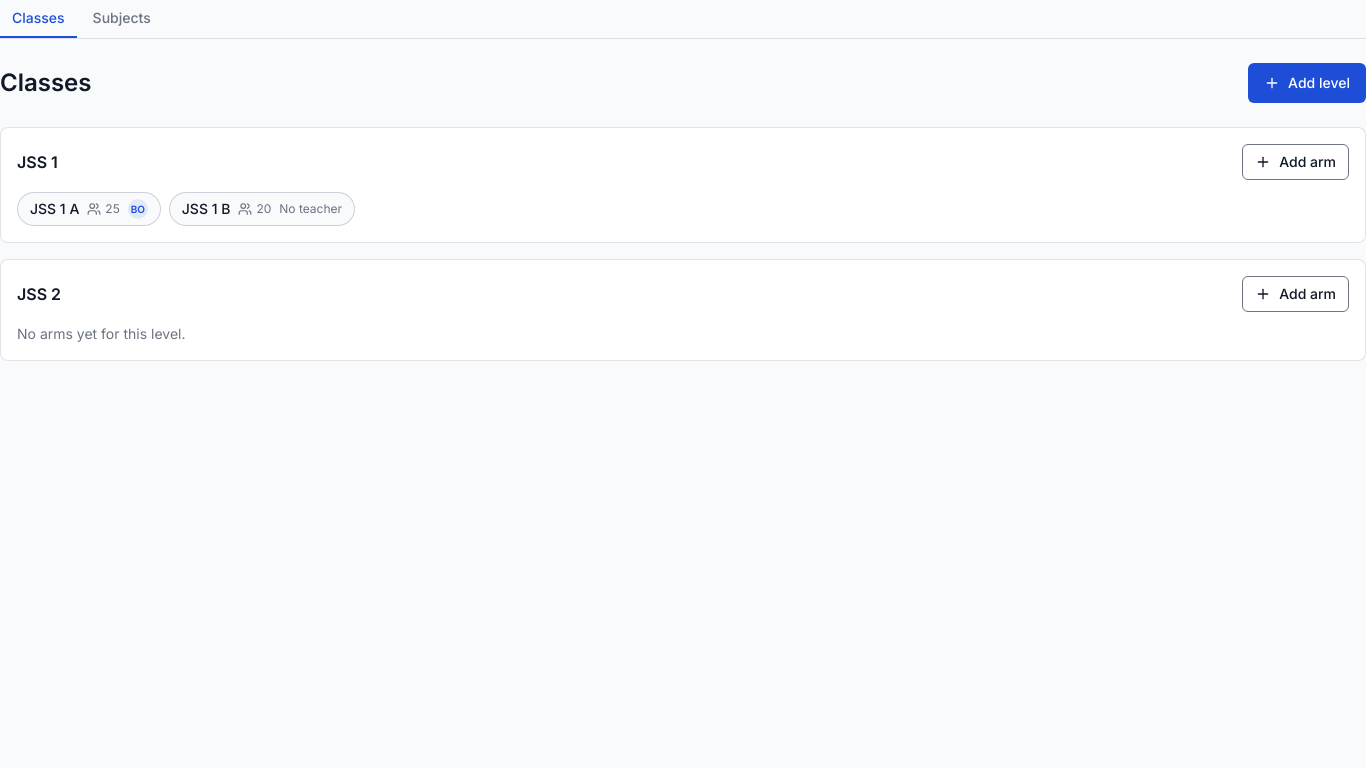
Scenario: ClassesPage — Subjects tab › renders subjects with level chips, and surfaces the assigned-delete 409 as a friendly sentence
Expected: the heading "JSS 1" is shown, [17, 150, 58, 174]
Step 1. Click the tab "Subjects" → (122,19), box [81, 0, 163, 38]
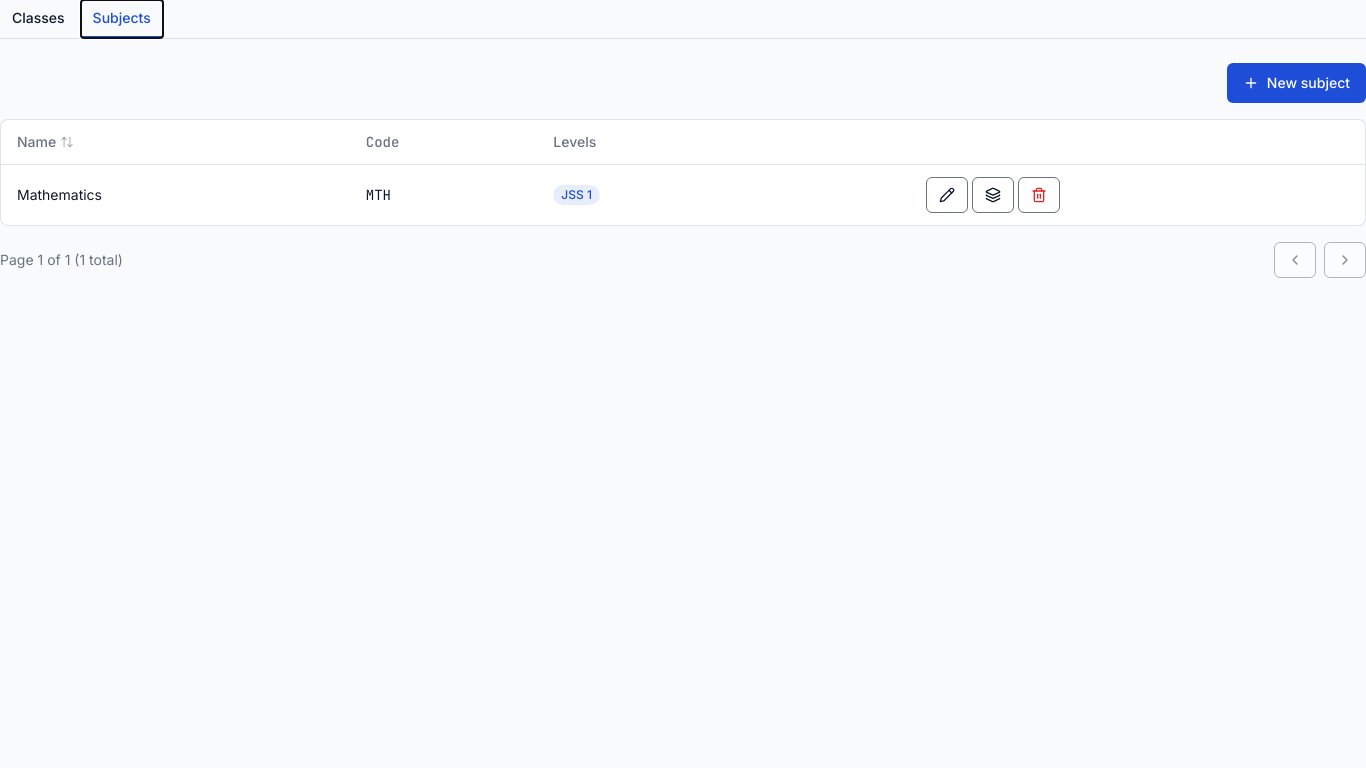
Expected: the text "JSS 1" is shown, [553, 185, 600, 205]
Expected: the text "Mathematics" is shown, [1, 164, 350, 225]
Expected: the text "MTH" is shown, [350, 164, 545, 225]
Step 2. Click the button named "Delete Mathematics" → (1039,195), box [1018, 177, 1060, 213]
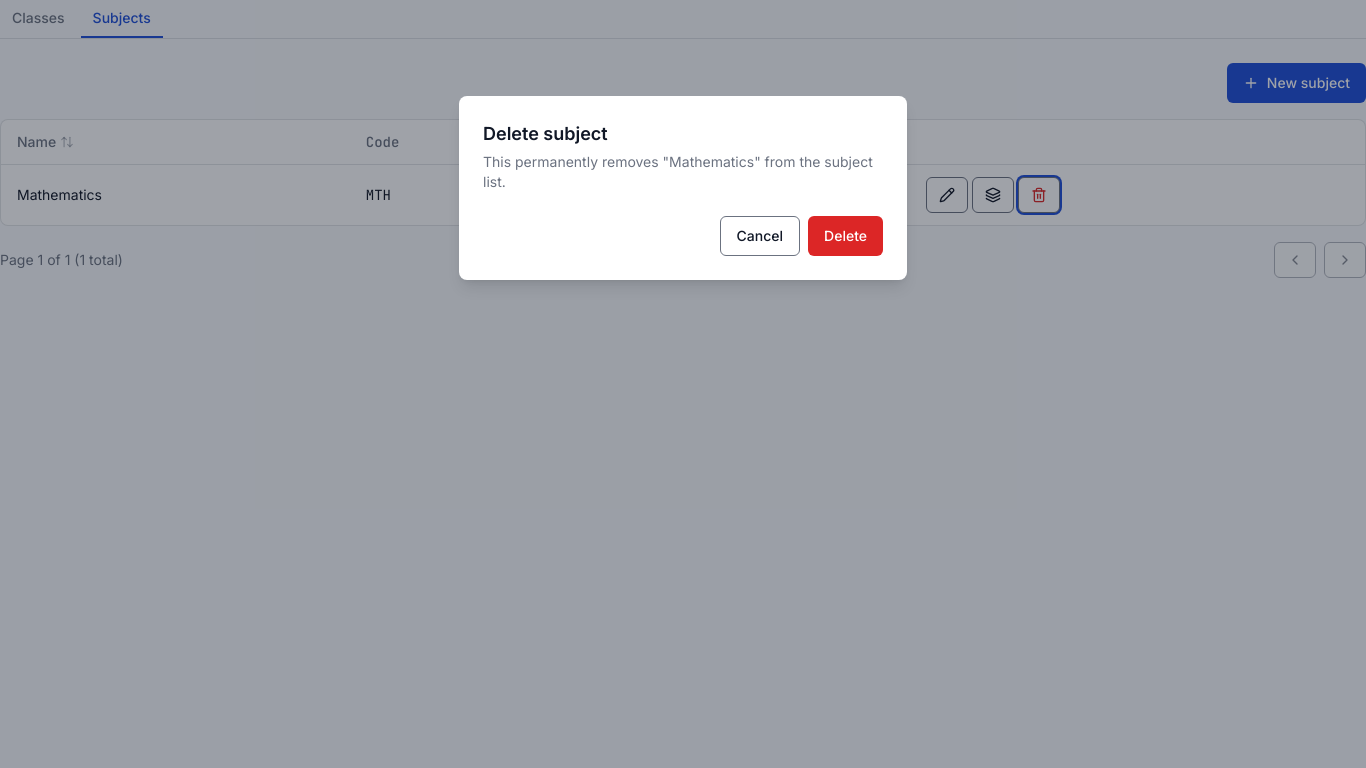
Step 3. Click the button "Delete" → (846,236), box [808, 216, 883, 256]
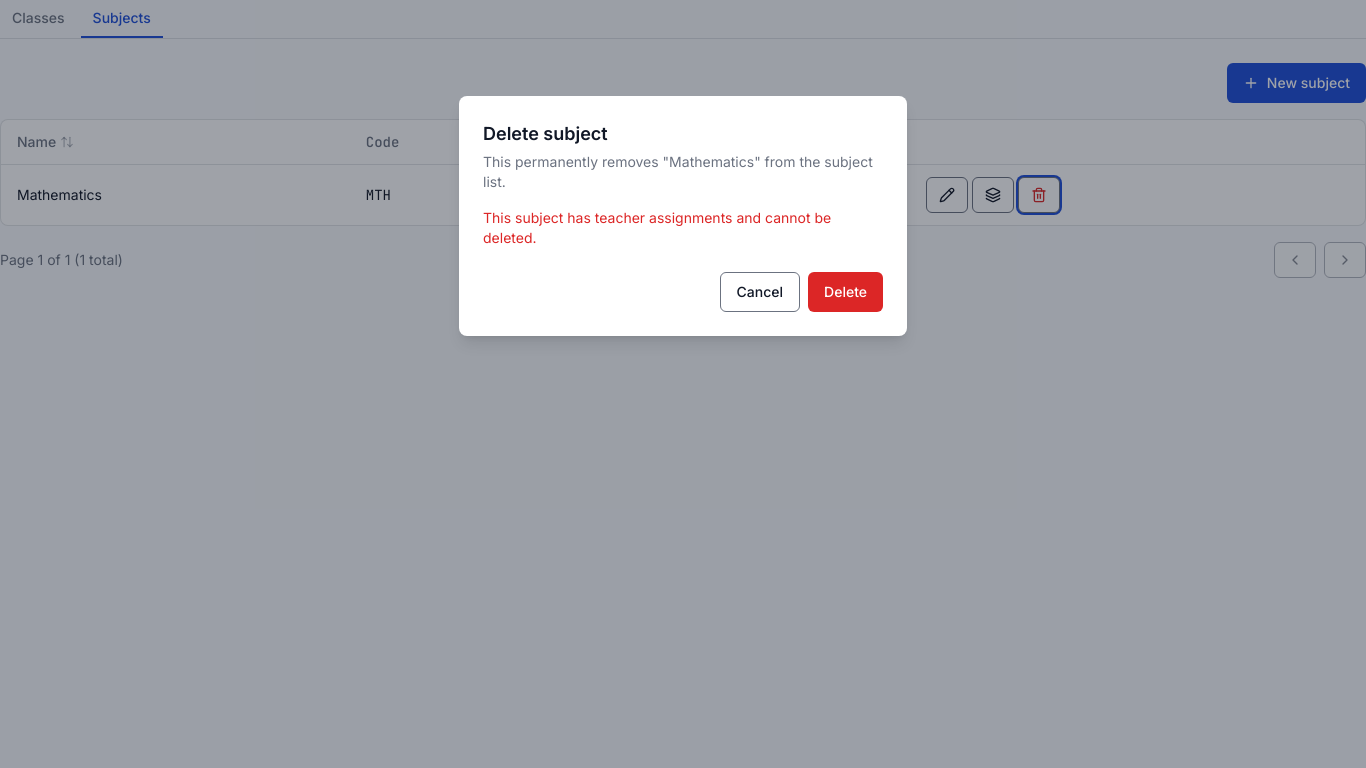
Expected: the text "This subject has teacher assignments and cannot be deleted." is shown, [483, 208, 883, 248]
